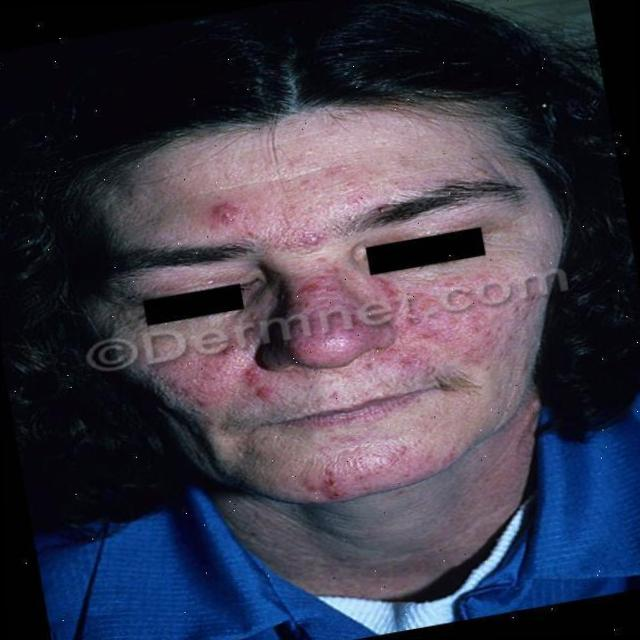skinredness: (0, 0, 640, 640), (48, 62, 608, 544)
